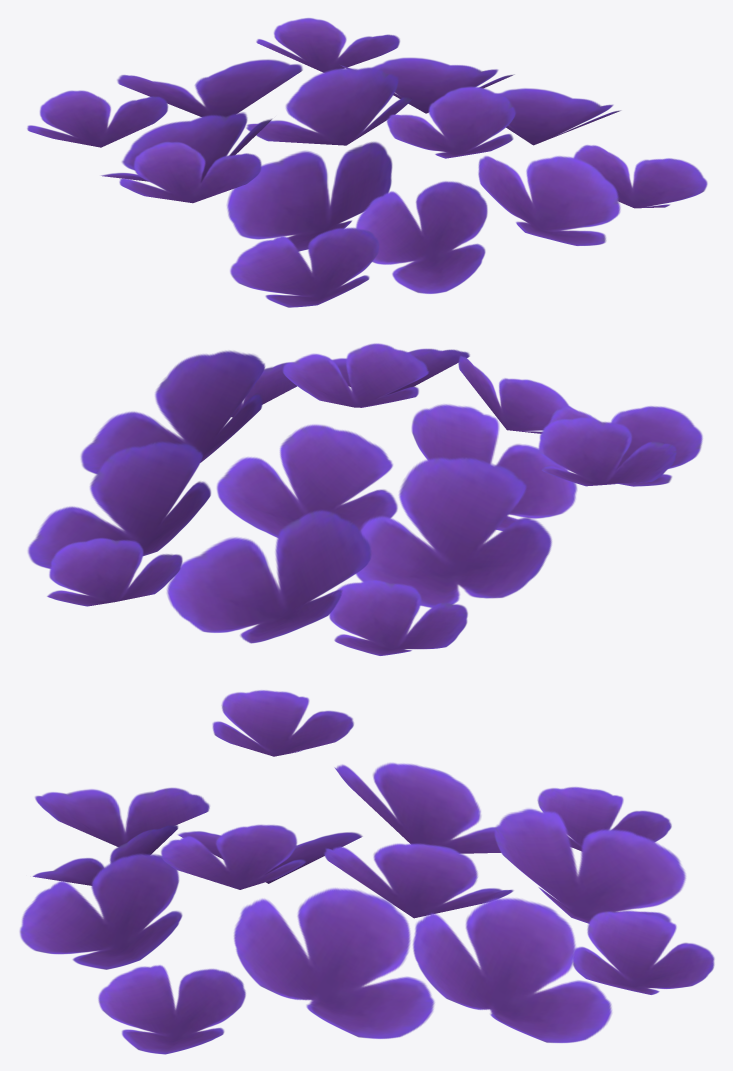
The model's file is plant-big-transformed.glb.
3 renders of one model, top to bottom at view 1: azimuth 30°, elevation 25°; view 2: azimuth 150°, elevation 25°; view 3: azimuth 270°, elevation 25°, orthographic. The views are drawn at different scales.
Visible parts, largest first — view 1: Plant_7_Big; view 2: Plant_7_Big; view 3: Plant_7_Big.
Boxes of the visible parts, x1,y1,x2,y2 form: Plant_7_Big: (27, 18, 707, 307); Plant_7_Big: (27, 343, 702, 655); Plant_7_Big: (19, 690, 714, 1054).
Bounding box in the file's own units: 1.31 × 0.2534 × 1.36.
Materials: 1 (1 with a texture image).
